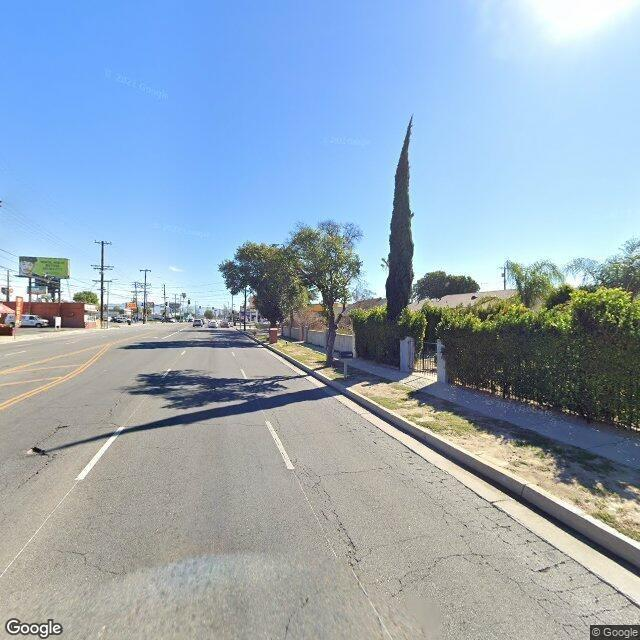pothole: (29, 445, 47, 456)
